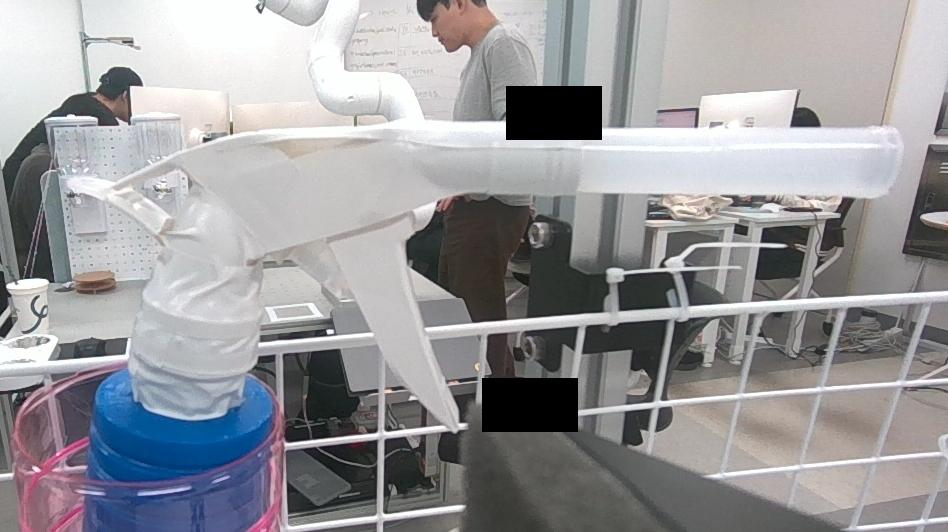Nozzle: (50, 107, 587, 532)
